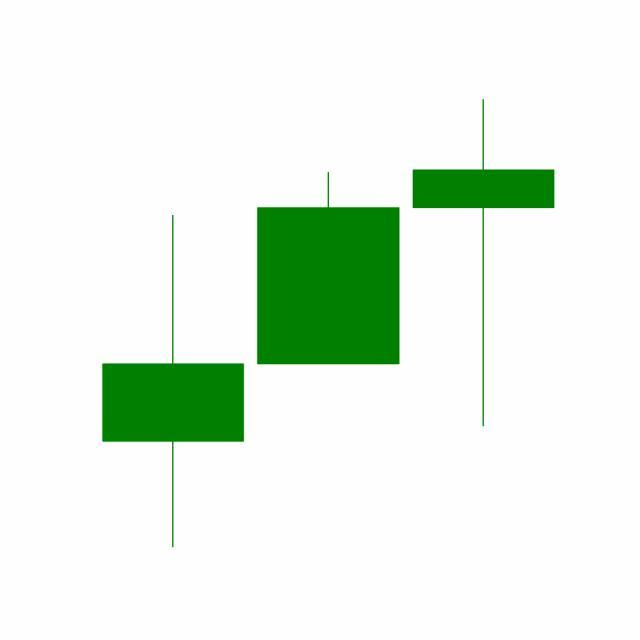Spinning Top: (406, 96, 562, 430)
